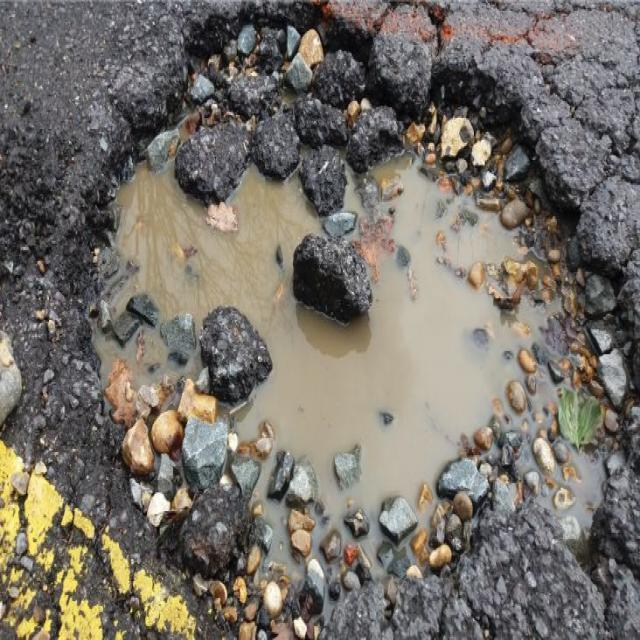pothole: (47, 6, 624, 604)
